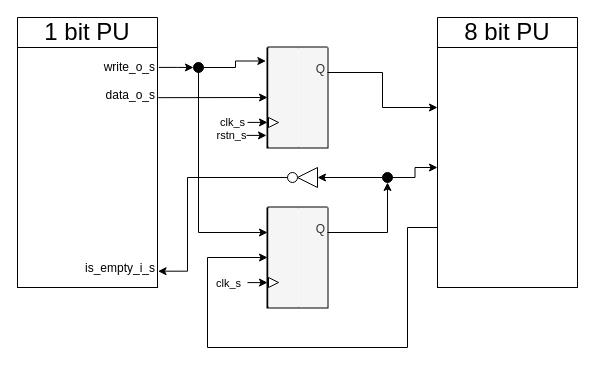
Image size: 595x373. Some labels were removed from this diagram. The shapes that lost their labels are listed below. From the top down, each one's centre as x and y in pixels, then its label:
At point 283,97: "CE D nReset".
At point 507,167: "data_i_s valid_i_s ready_o_s".
At point 283,257: "S R .".
